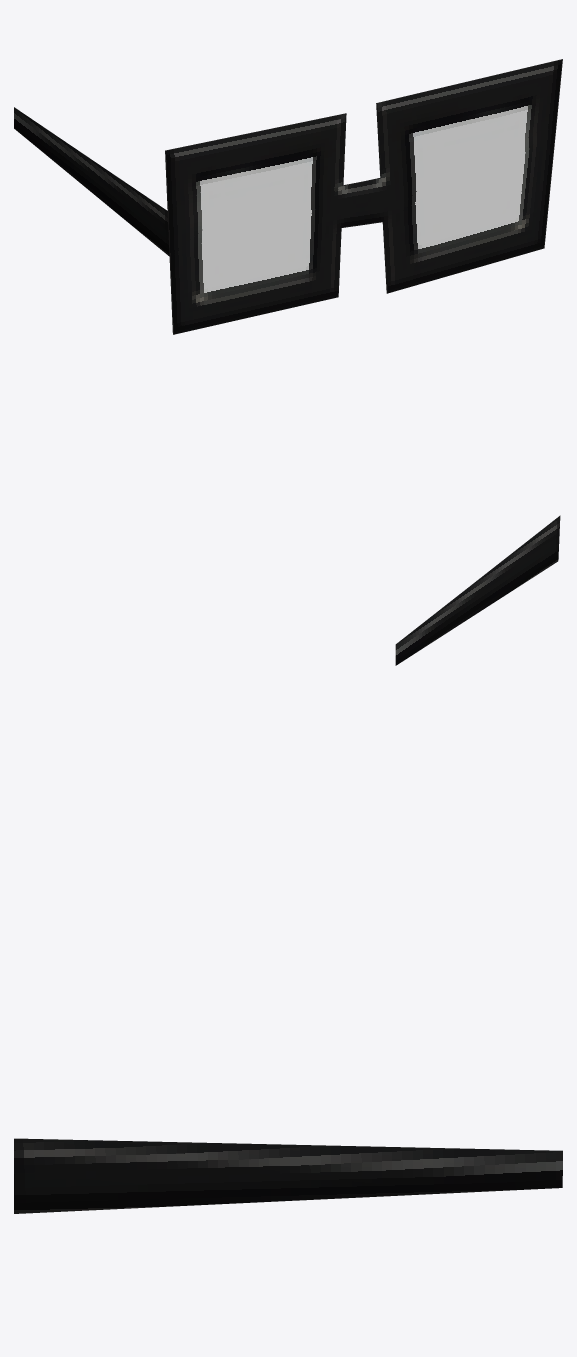
Rendered from tt_m_chr_avt_acc_msk_squareRims.glb.
The picture shows the model from 3 angles, top to bottom: view 1: azimuth 30°, elevation 25°; view 2: azimuth 150°, elevation 25°; view 3: azimuth 270°, elevation 25°; orthographic projection. The views are drawn at different scales.
Parts seen in each view (by area): view 1: squareRims; view 2: squareRims; view 3: squareRims.
Boxes of the visible parts, x1,y1,x2,y2 form: squareRims: (14,59,562,334); squareRims: (395,515,560,665); squareRims: (14,1138,562,1213).
Size of the model in its own units: 3.43 by 1.62 by 2.37.
Materials: 1 (1 with a texture image).
